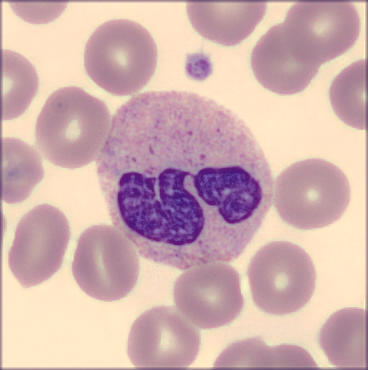WBC: (97, 88, 278, 270)
